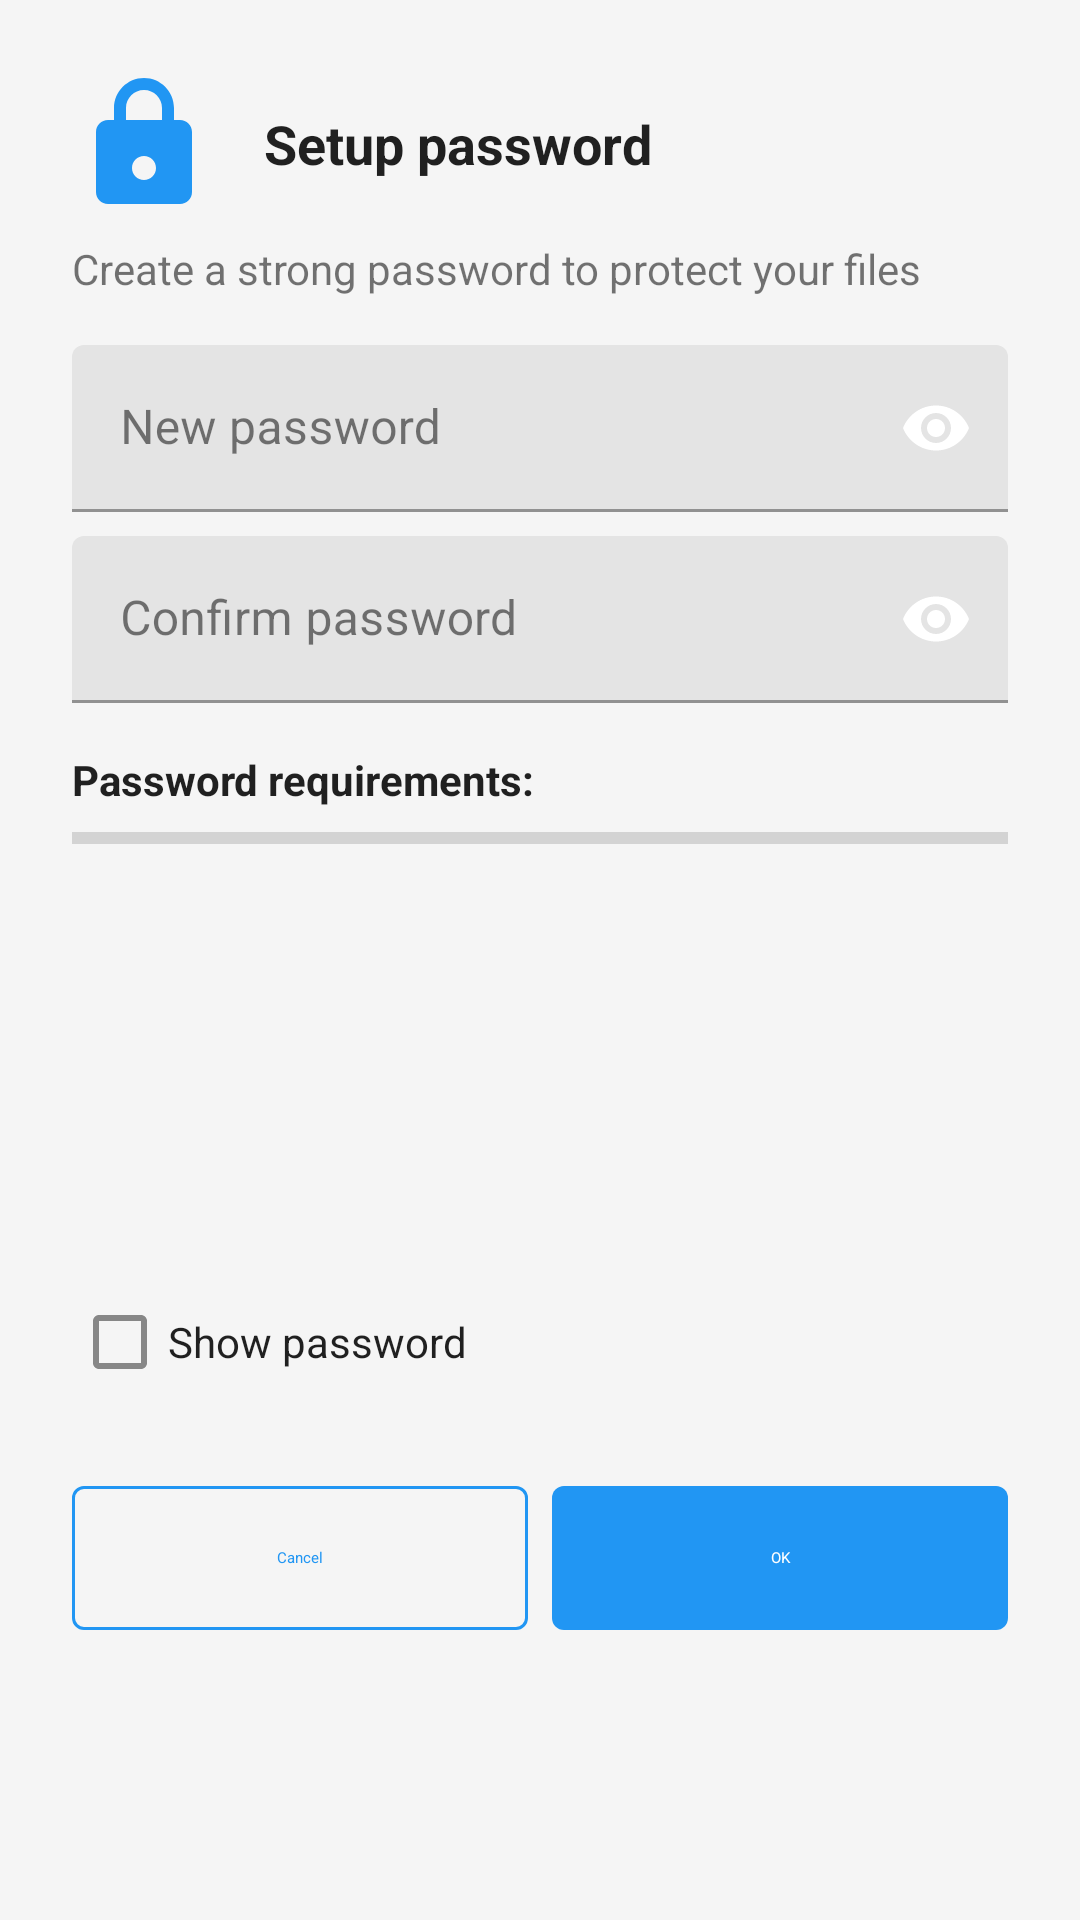

Screen size 1080 × 1920. Icon name, then its box in pixels as (x1, y1, x2, y2):
lock: (96, 78, 192, 204)
